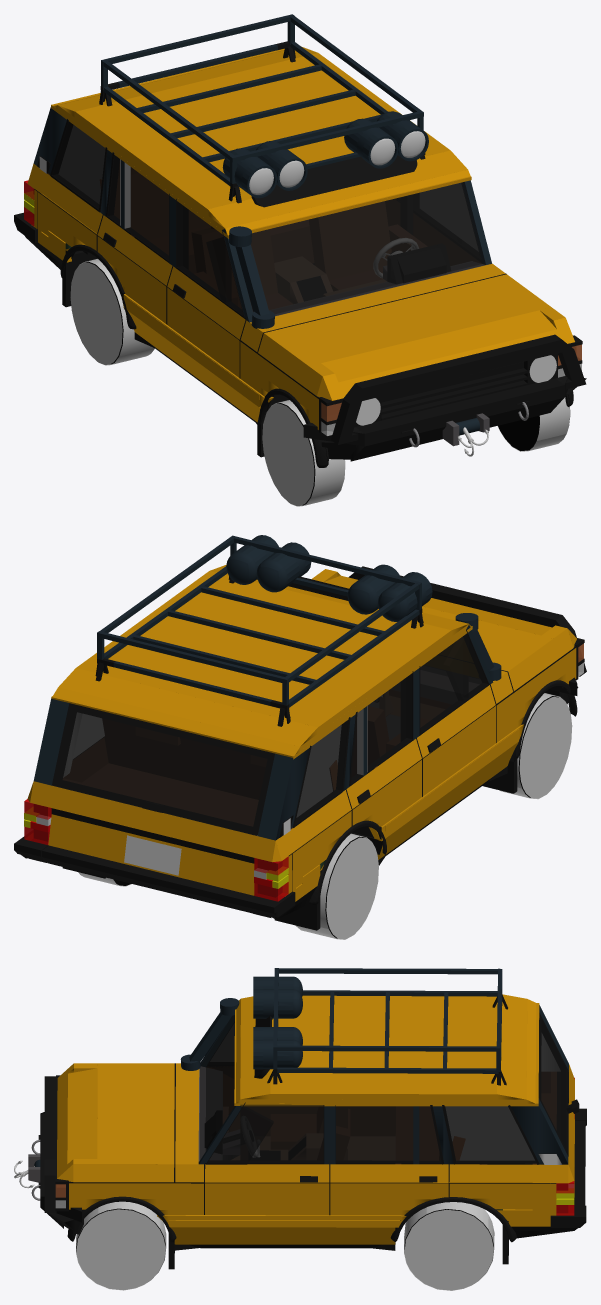
Rendered from Rover1.obj.
3 renders of one model, top to bottom at view 1: azimuth 30°, elevation 25°; view 2: azimuth 150°, elevation 25°; view 3: azimuth 270°, elevation 25°, orthographic. The views are drawn at different scales.
Parts seen in each view (by area): view 1: Part215.001, Part271.001, Part51.001, Part47.001, Wedge114.001, Part17.001, Part307.001, Part313.001, Wedge70.001, Wheel12.001, Wheel6.001, Part142.001 (+56 smaller); view 2: Part51.001, Part146.001, Part47.001, Part61.001, Wedge39.001, Wedge64.001, Wedge12.001, Part71.001, Wheel12.001, Wheel6.001, Part142.001, Part179.001 (+57 smaller); view 3: Part51.001, Part271.001, Part47.001, Wheel24.001, Wheel18.001, Part64.001, Part231.001, Part132.001, Part221.001, Part202.001, Part133.001, Part215.001 (+59 smaller).
Part boxes in pixels (x1,y1,x2,y2): Part215.001: [249, 182, 485, 315]; Part271.001: [250, 263, 551, 365]; Part51.001: [124, 89, 450, 215]; Part47.001: [75, 53, 366, 153]; Wedge114.001: [321, 310, 556, 382]; Part17.001: [309, 201, 391, 279]; Part307.001: [355, 378, 564, 446]; Part313.001: [355, 334, 562, 400]; Wedge70.001: [207, 150, 467, 228]; Wheel12.001: [70, 262, 122, 364]; Wheel6.001: [262, 403, 314, 505]; Part142.001: [108, 155, 168, 260]; Part51.001: [125, 571, 451, 697]; Part146.001: [60, 711, 267, 826]; Part47.001: [76, 632, 366, 733]; Part61.001: [102, 719, 337, 799]; Wedge39.001: [58, 668, 317, 746]; Wedge64.001: [30, 781, 275, 861]; Wedge12.001: [48, 814, 254, 895]; Part71.001: [82, 763, 258, 824]; Wheel12.001: [326, 837, 378, 939]; Wheel6.001: [519, 697, 572, 798]; Part142.001: [351, 673, 412, 783]; Part179.001: [420, 633, 468, 732]; Part51.001: [270, 995, 413, 1099]; Part271.001: [97, 1063, 199, 1164]; Part47.001: [413, 996, 497, 1099]; Wheel24.001: [76, 1209, 165, 1290]; Wheel18.001: [404, 1209, 493, 1290]; Part64.001: [336, 1106, 441, 1162]; Part231.001: [240, 1104, 323, 1164]; Part132.001: [445, 1106, 535, 1162]; Part221.001: [205, 1183, 329, 1215]; Part202.001: [170, 1227, 395, 1244]; Part133.001: [446, 1106, 534, 1160]; Part215.001: [199, 1015, 234, 1160].
Bounding box in the file's own units: 9 × 8.53 × 19.21.
